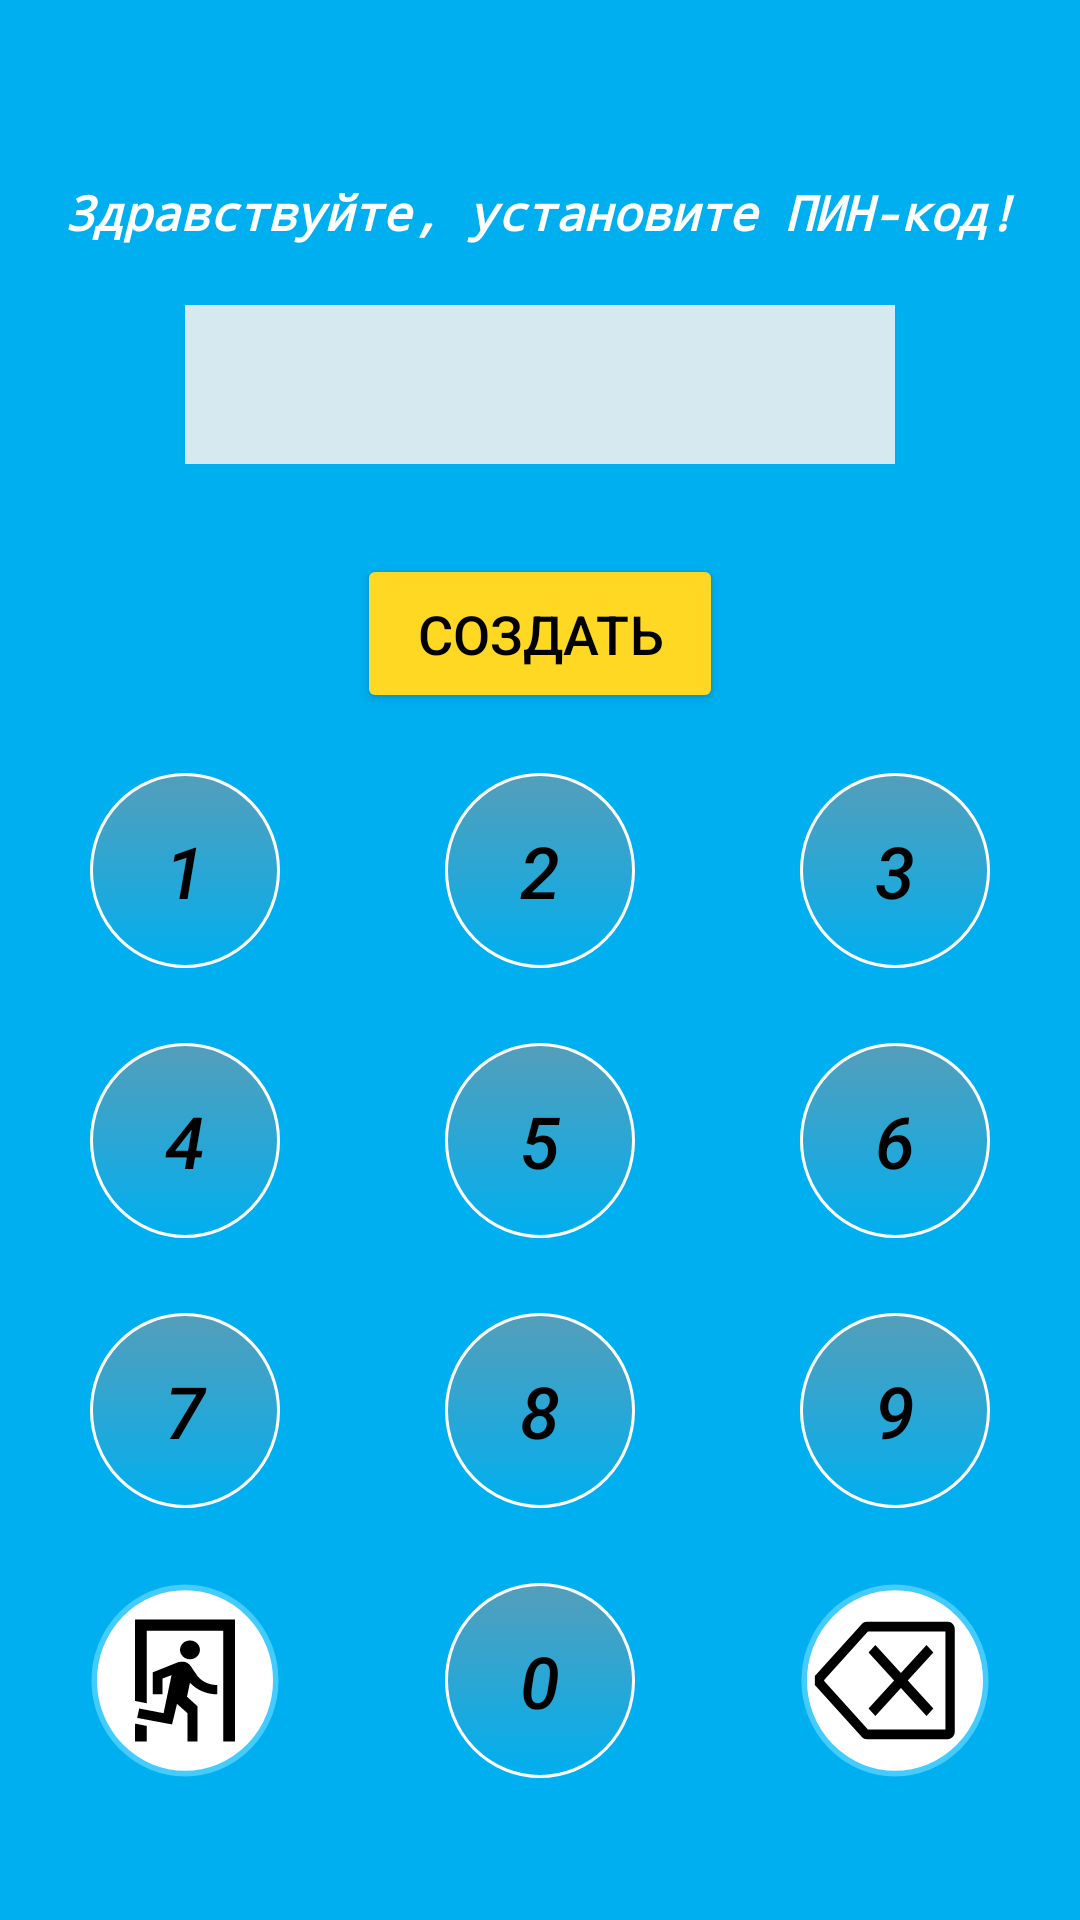

Locate icon controls on the screen. Image size 1080×1920, boxes as BBox(x1, y1, x2, y2).
deleten: BBox(801, 1584, 989, 1777)
exitn: BBox(91, 1584, 279, 1777)
